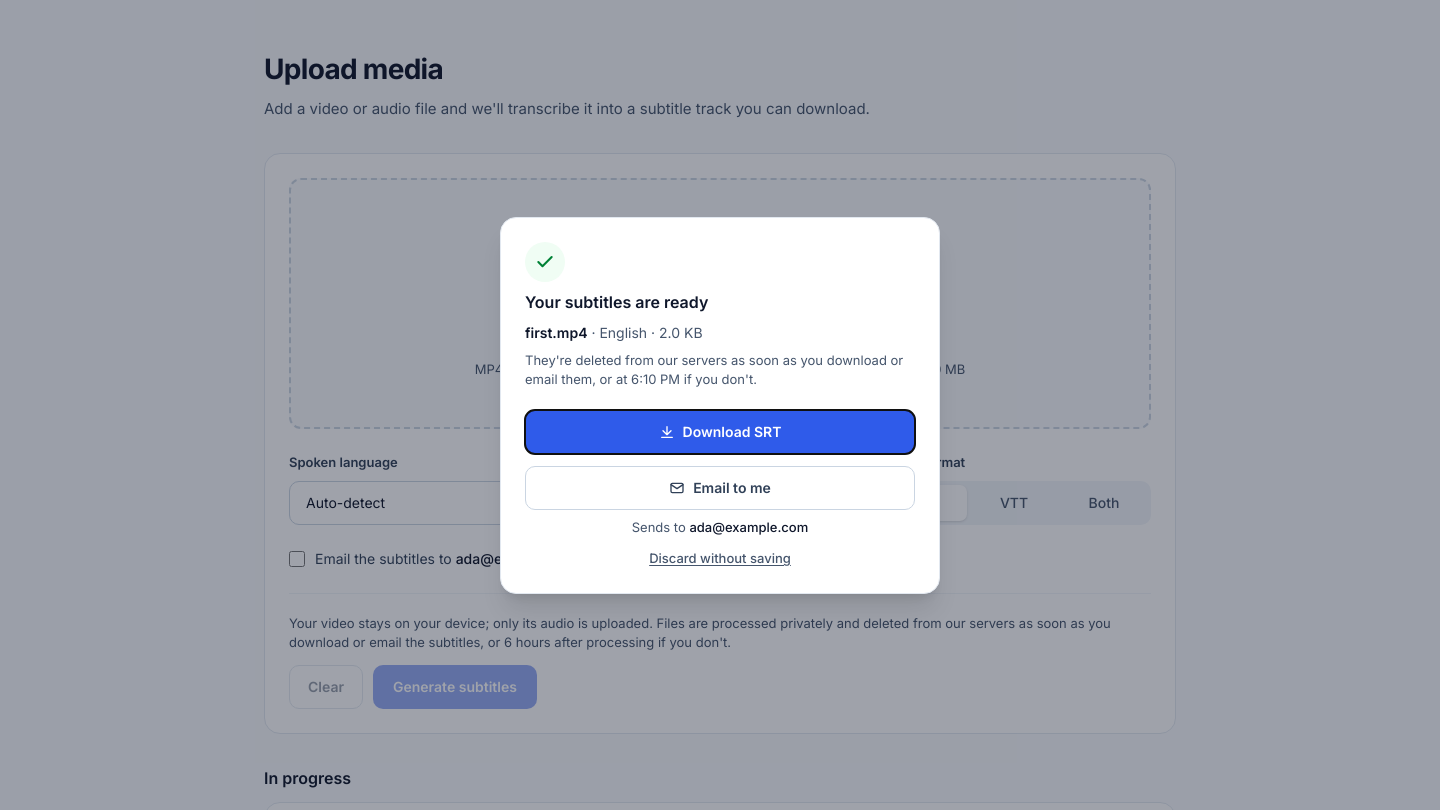
Scenario: ready subtitles › shows the next ready upload after the first is downloaded
Expected: the dialog shows "first.mp4", x1=525 y1=324 x2=588 y2=340
Click the button "Download SRT". click: (720, 432)
box: x1=525 y1=410 x2=915 y2=454
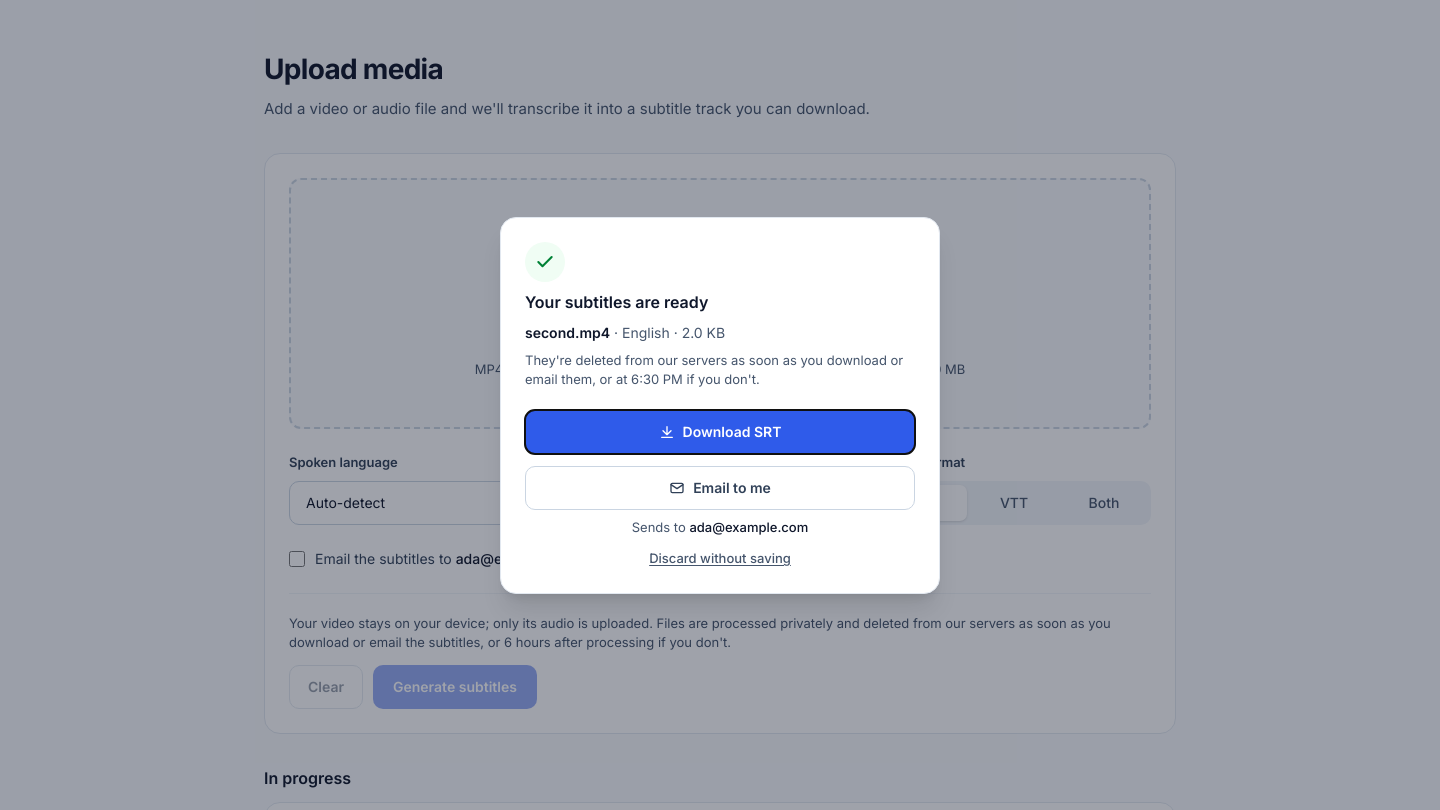
Expected: the dialog shows "second.mp4", x1=525 y1=324 x2=610 y2=340
